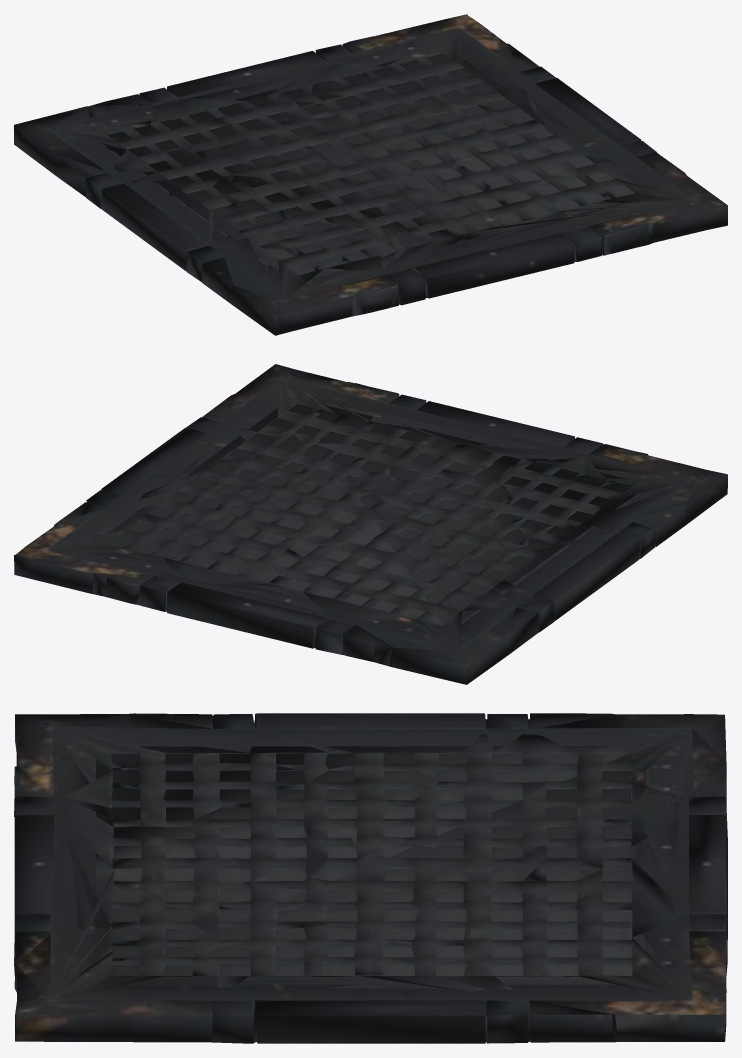
Rendered from floor-grate.glb.
The picture shows the model from 3 angles, top to bottom: view 1: azimuth 30°, elevation 25°; view 2: azimuth 150°, elevation 25°; view 3: azimuth 270°, elevation 25°; orthographic projection. The views are drawn at different scales.
Bounding box in the file's own units: 1 × 0.0475 × 0.9985.
Materials: 1 (1 with a texture image).
